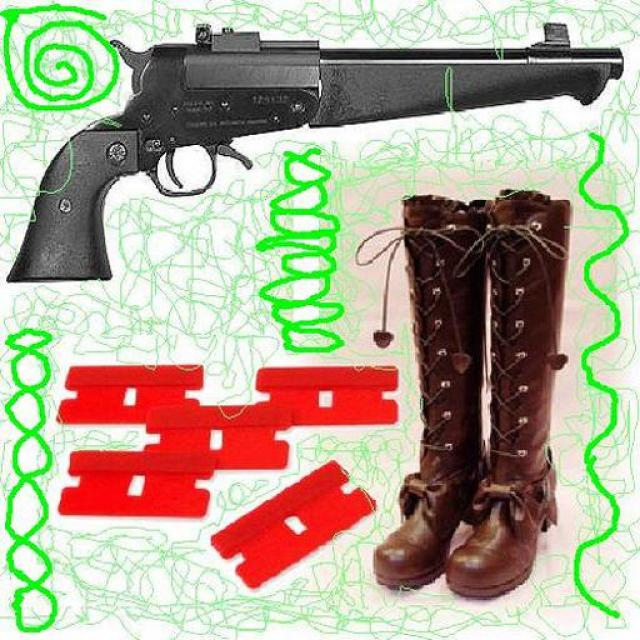pistol: (4, 21, 624, 280)
